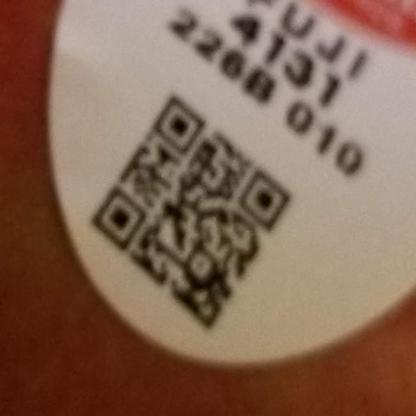qr: (79, 88, 300, 336)
